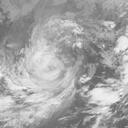cyclone: (14, 20, 88, 101)
